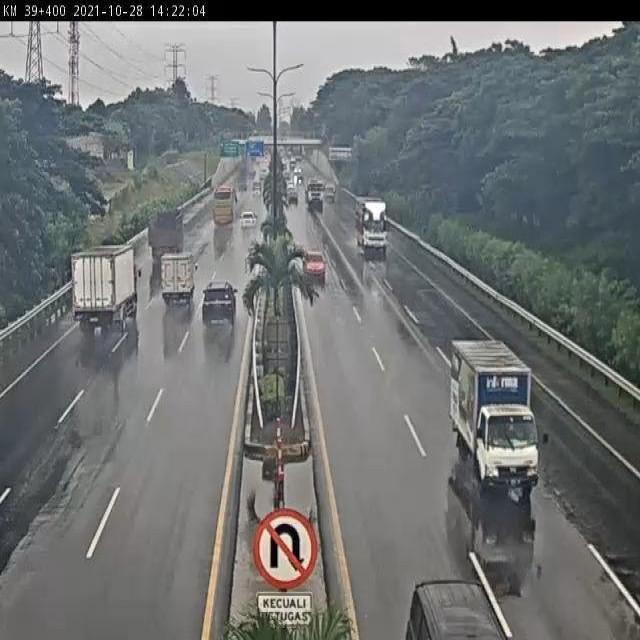big bus: (207, 185, 237, 228)
car: (203, 281, 239, 328), (300, 244, 330, 284), (242, 210, 259, 230)
truck-l-: (71, 244, 138, 332), (351, 196, 389, 255), (146, 210, 186, 262)
truck-s-: (445, 333, 542, 492), (159, 249, 198, 308)
